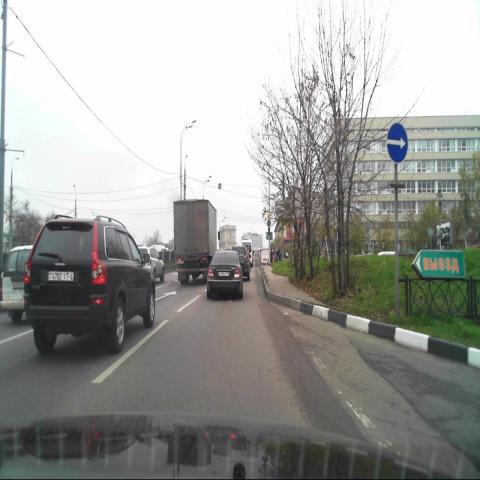4_1_2_1: (386, 122, 408, 163)
